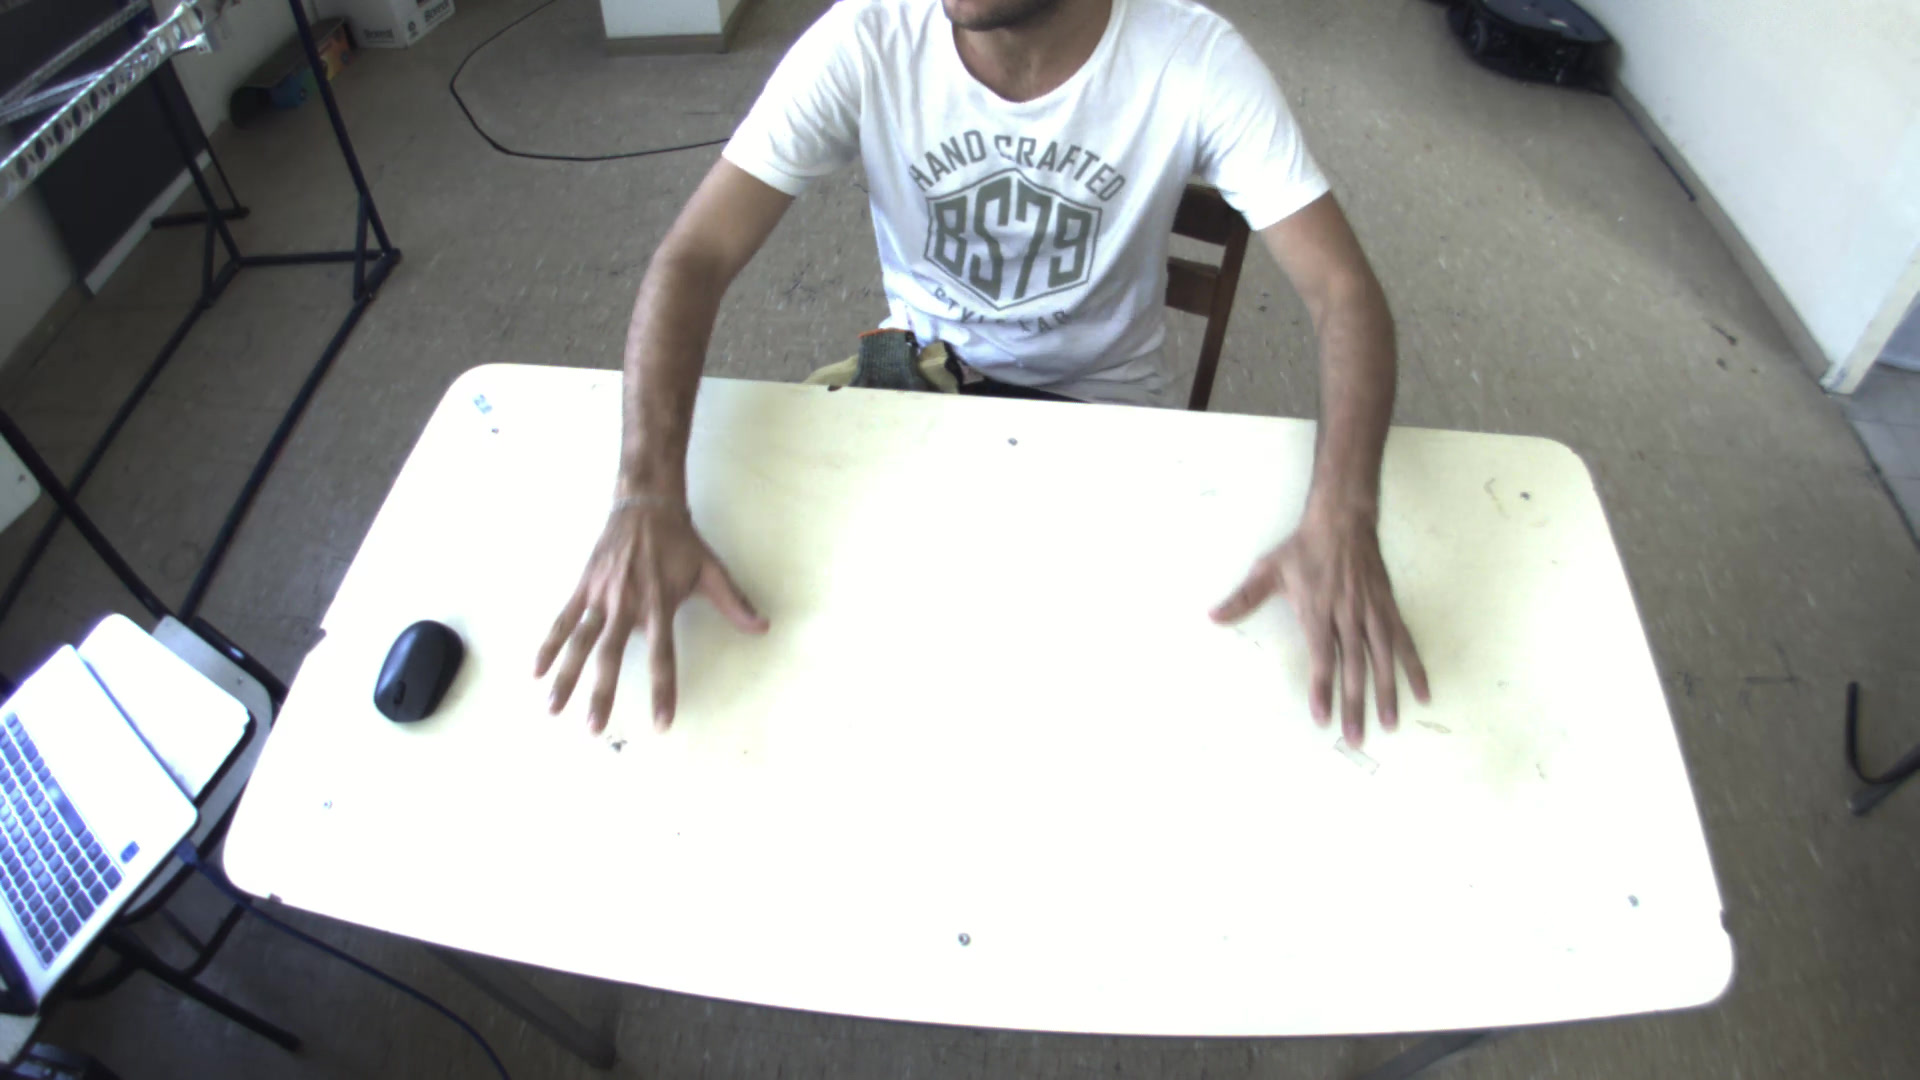hand: (512, 479, 775, 742), (1207, 498, 1456, 770)
